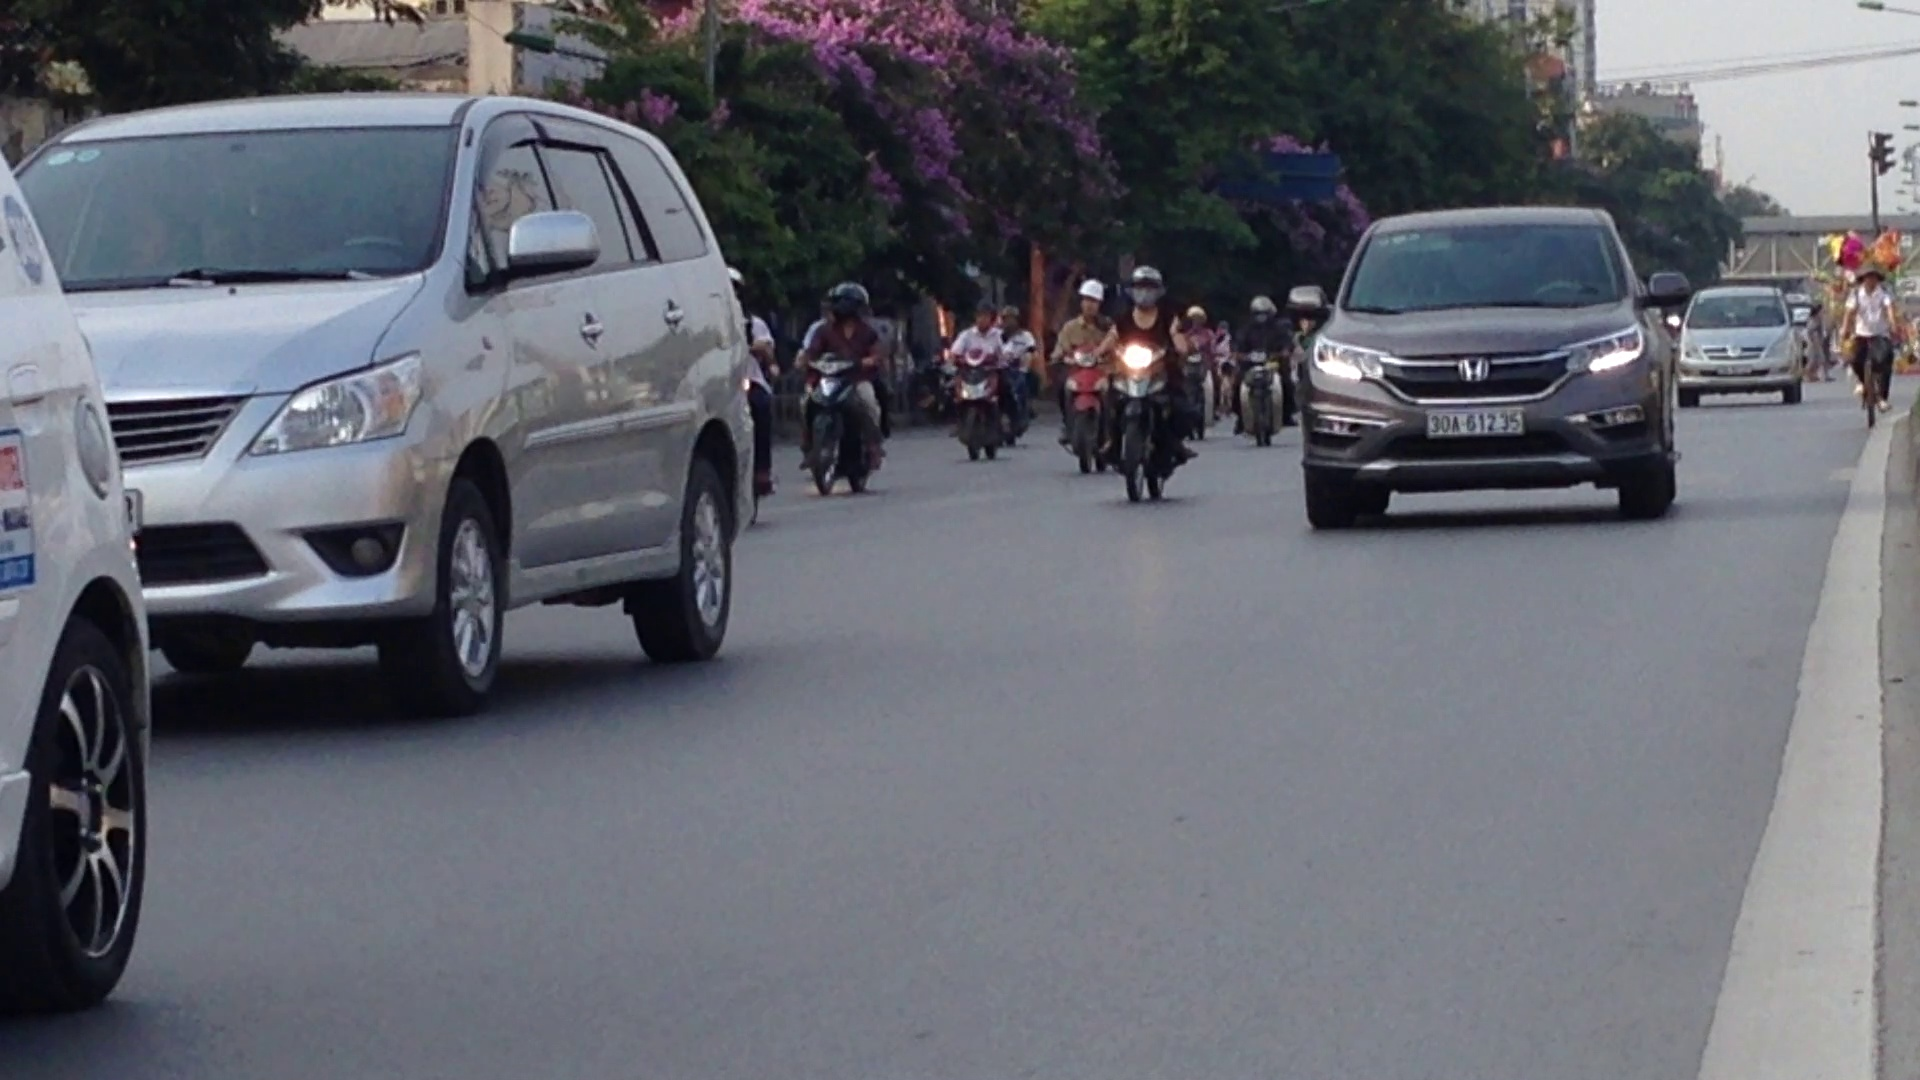vehicle-plate: (1423, 406, 1528, 441)
